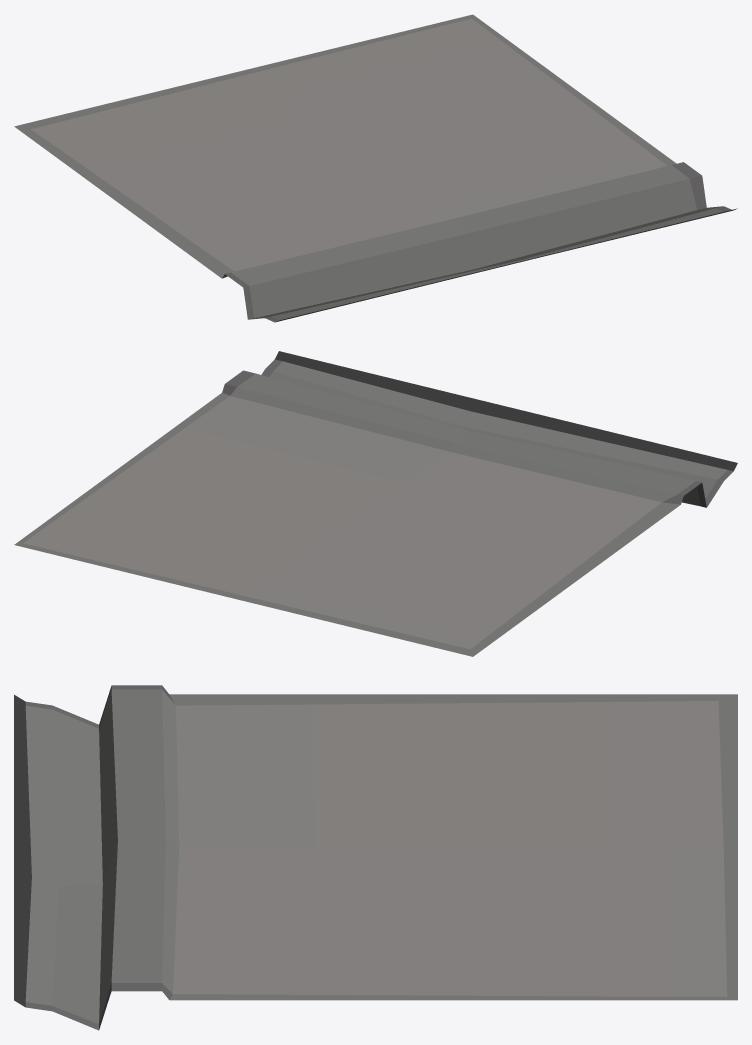
The model's file is SM_Gen_Env_Sidewalk_Edge_01.fbx.
The picture shows the model from 3 angles, top to bottom: view 1: azimuth 30°, elevation 25°; view 2: azimuth 150°, elevation 25°; view 3: azimuth 270°, elevation 25°; orthographic projection. The views are drawn at different scales.
Parts seen in each view (by area): view 1: SM_Gen_Env_Sidewalk_Edge_01; view 2: SM_Gen_Env_Sidewalk_Edge_01; view 3: SM_Gen_Env_Sidewalk_Edge_01.
Boxes of the visible parts, x1=… form: SM_Gen_Env_Sidewalk_Edge_01: x1=14, y1=14, x2=737, y2=322; SM_Gen_Env_Sidewalk_Edge_01: x1=14, y1=351, x2=737, y2=656; SM_Gen_Env_Sidewalk_Edge_01: x1=14, y1=685, x2=737, y2=1030.
Size of the model in its own units: 250 by 18.18 by 250.
